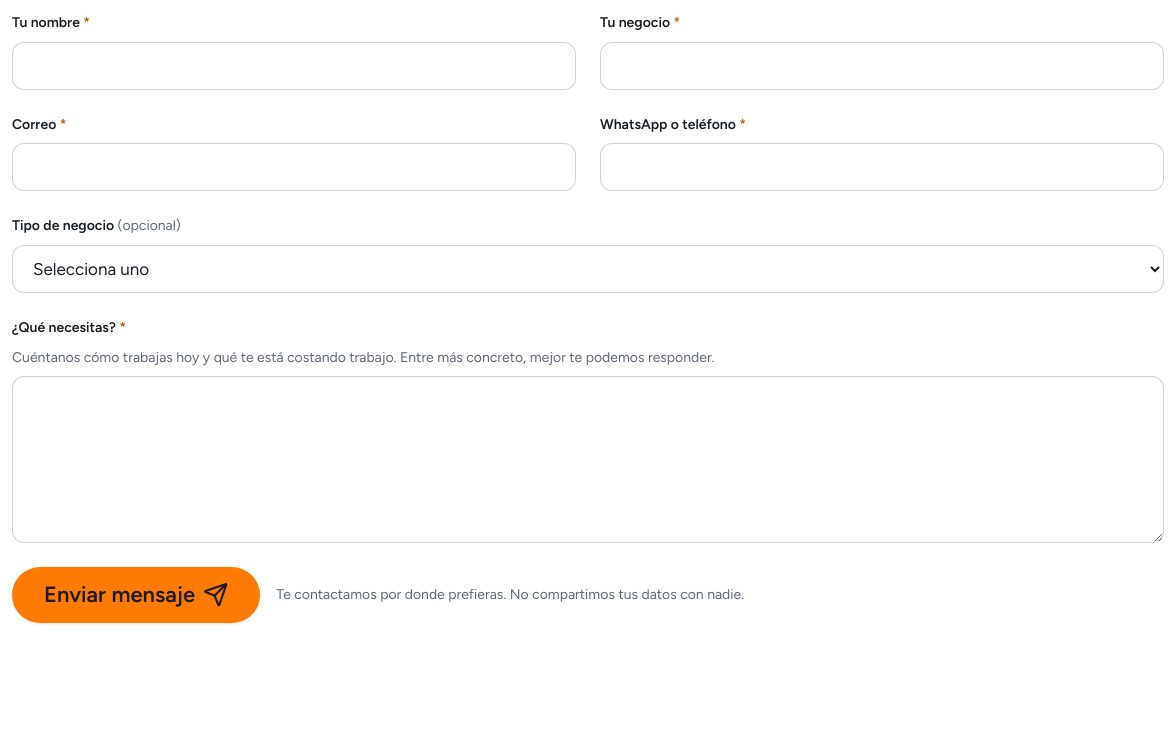
Test: ContactForm › tells the visitor when the server refuses, instead of failing silently
In the field labelled "Tu nombre *": (294, 66) [12,42,576,90], type "Juan Gutiérrez"
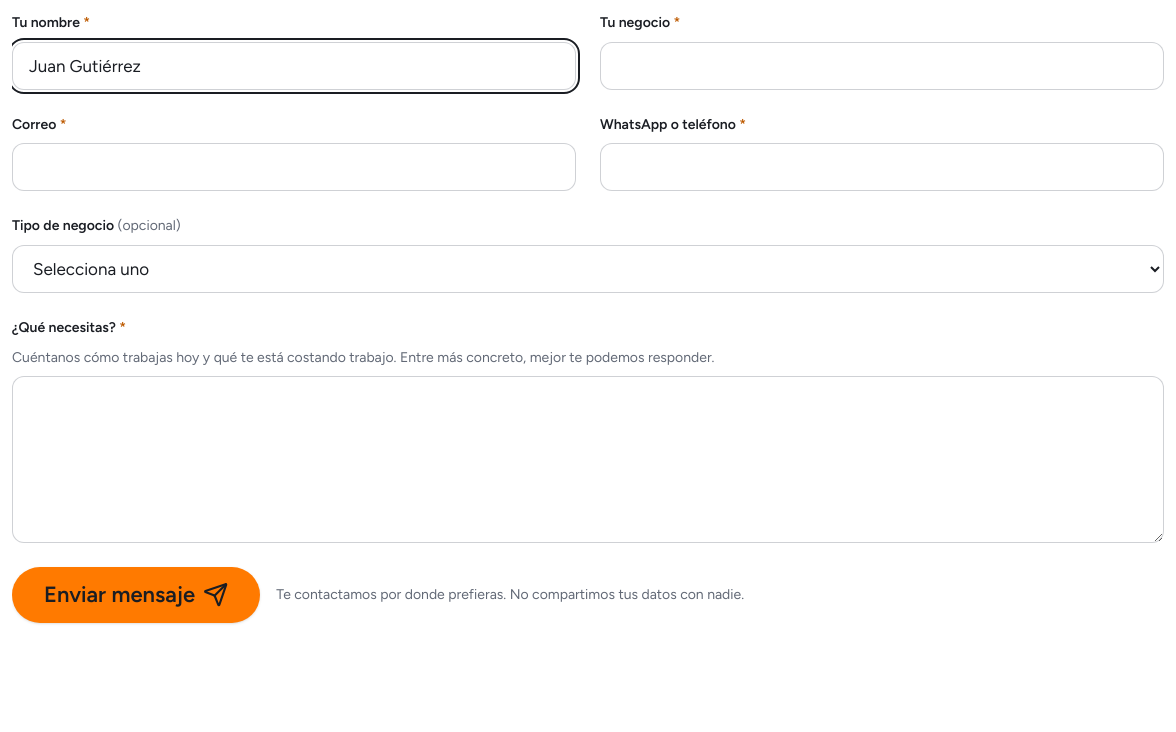
In the field labelled "Tu negocio *": (882, 66) [600,42,1164,90], type "Ferretería El Tornillo"
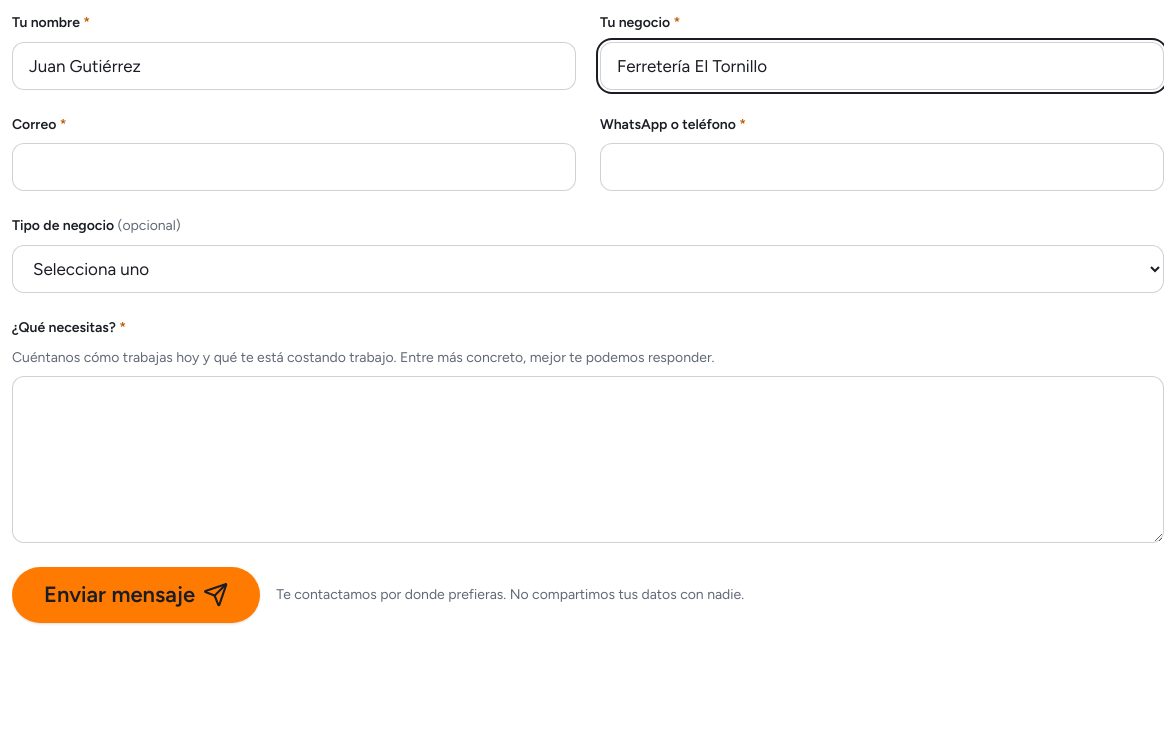
In the field labelled "Correo *": (294, 167) [12,143,576,191], type "juan@ejemplo.co"
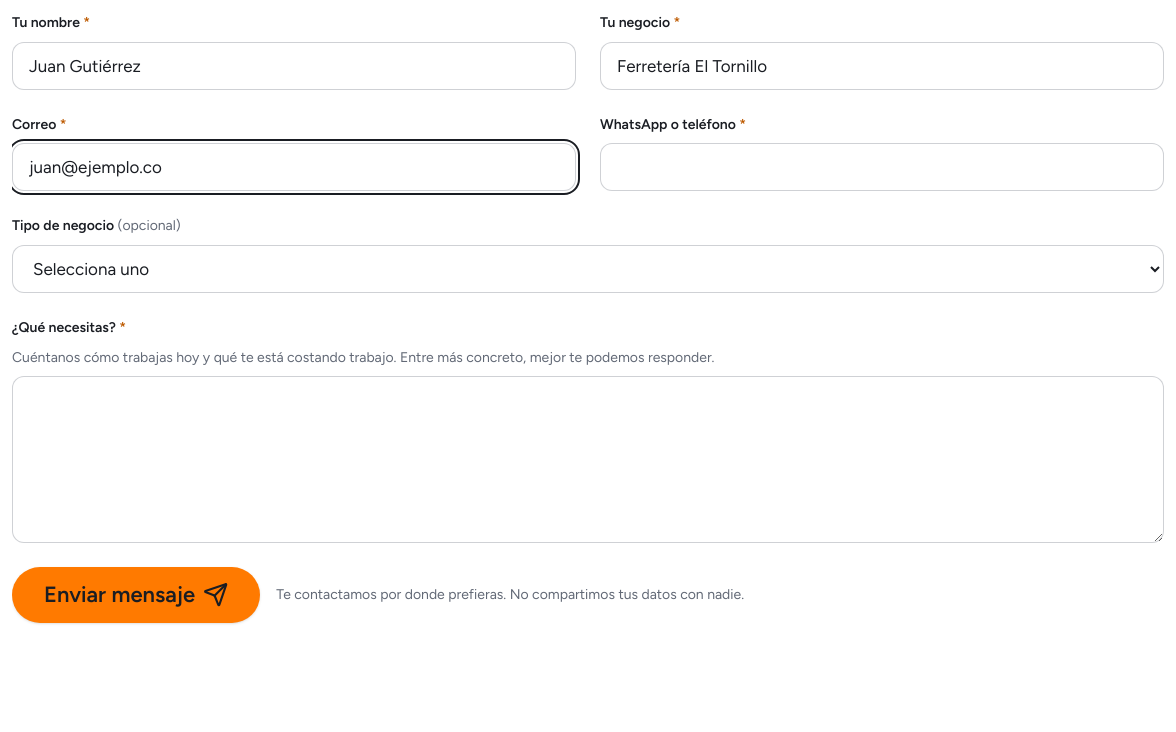
In the field labelled "WhatsApp o teléfono *": (882, 167) [600,143,1164,191], type "3001234567"
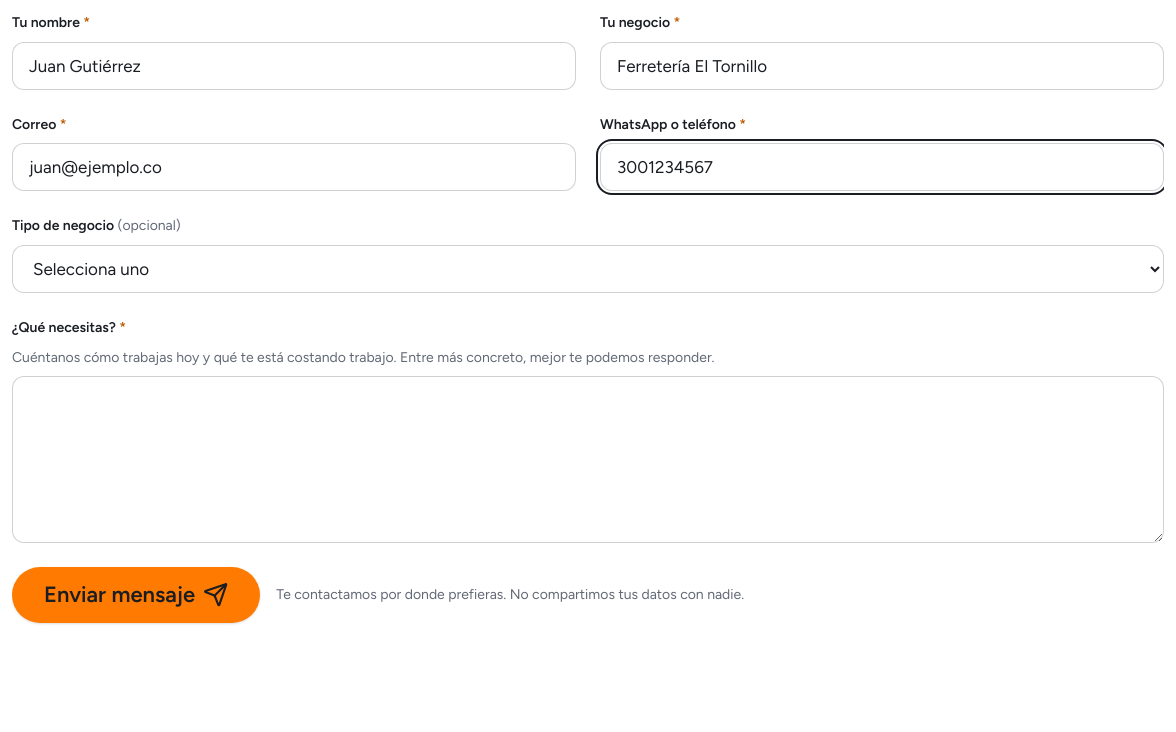
In the text box labelled "¿Qué necesitas? *": (588, 460) [12,376,1164,543], type "Vendo por unidad y por bulto y ningún sistema me cuadra eso."
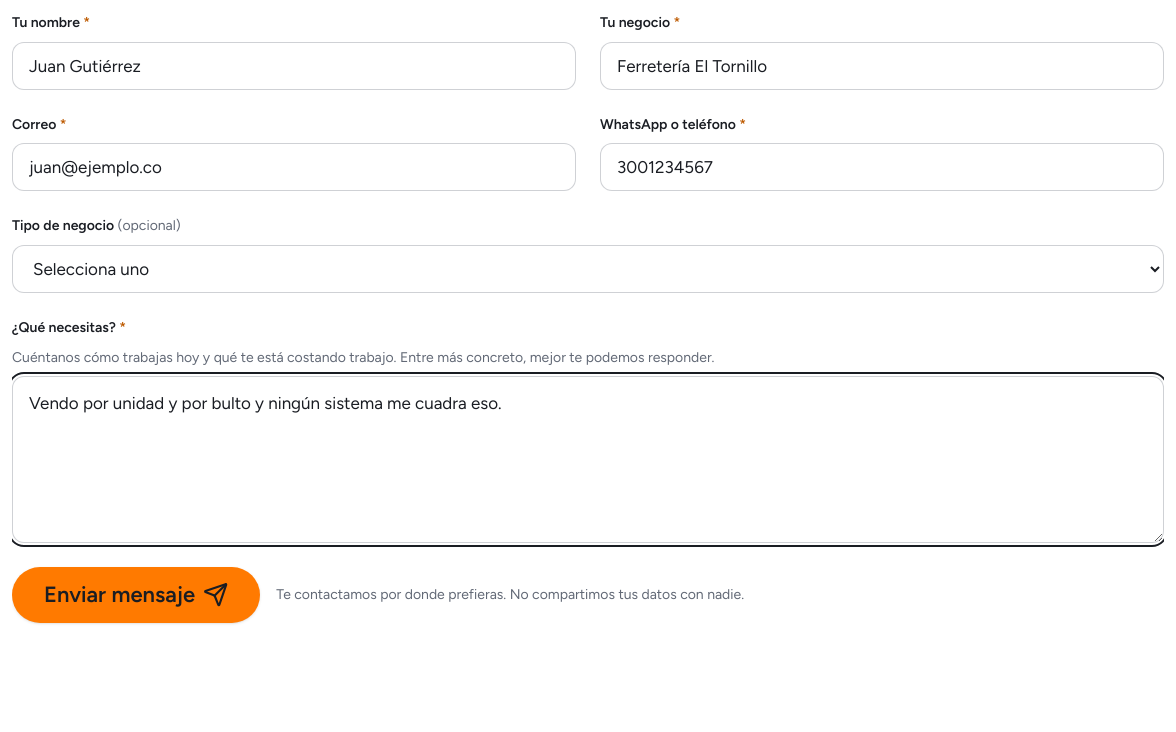
Click the button "Enviar mensaje": click(136, 595) [12,567,260,623]
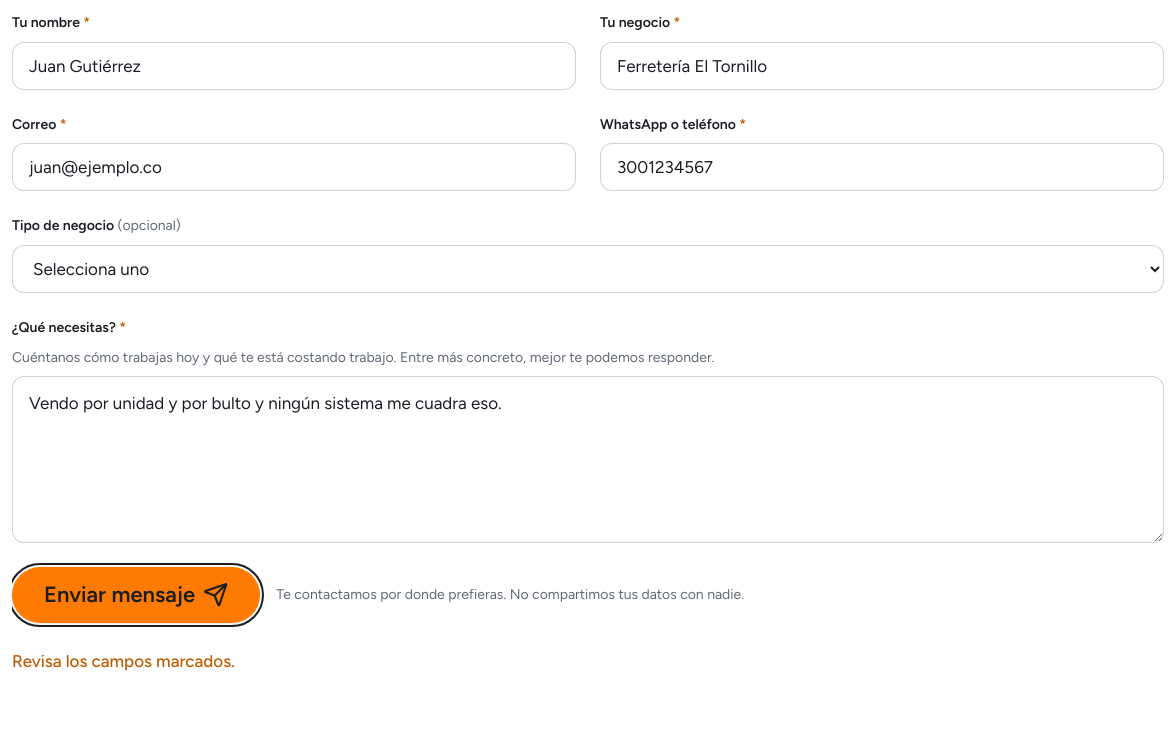
expect the message reads "Revisa los campos marcados.": met, box [12,651,235,671]
